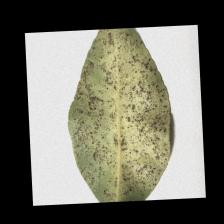canker: (83, 66, 167, 165)
